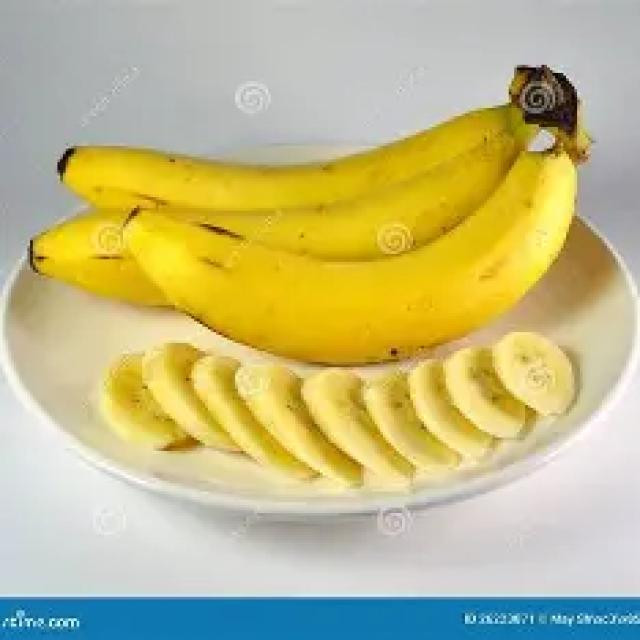BANANA: (24, 66, 590, 366)
